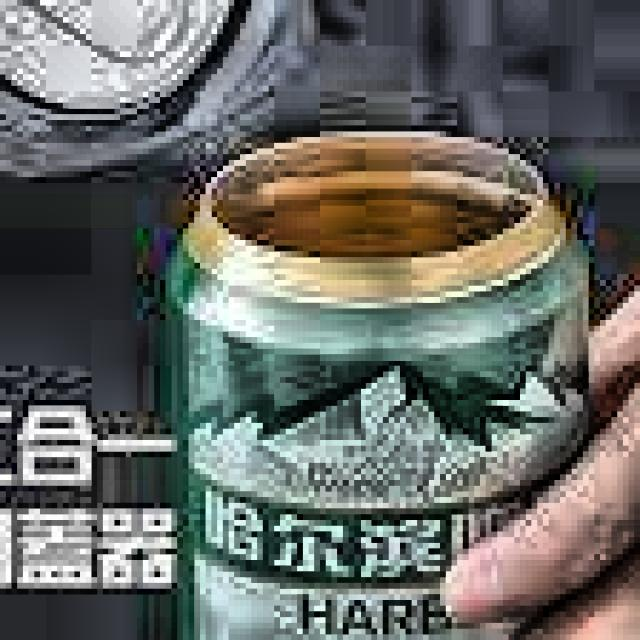metal: (154, 57, 640, 640)
